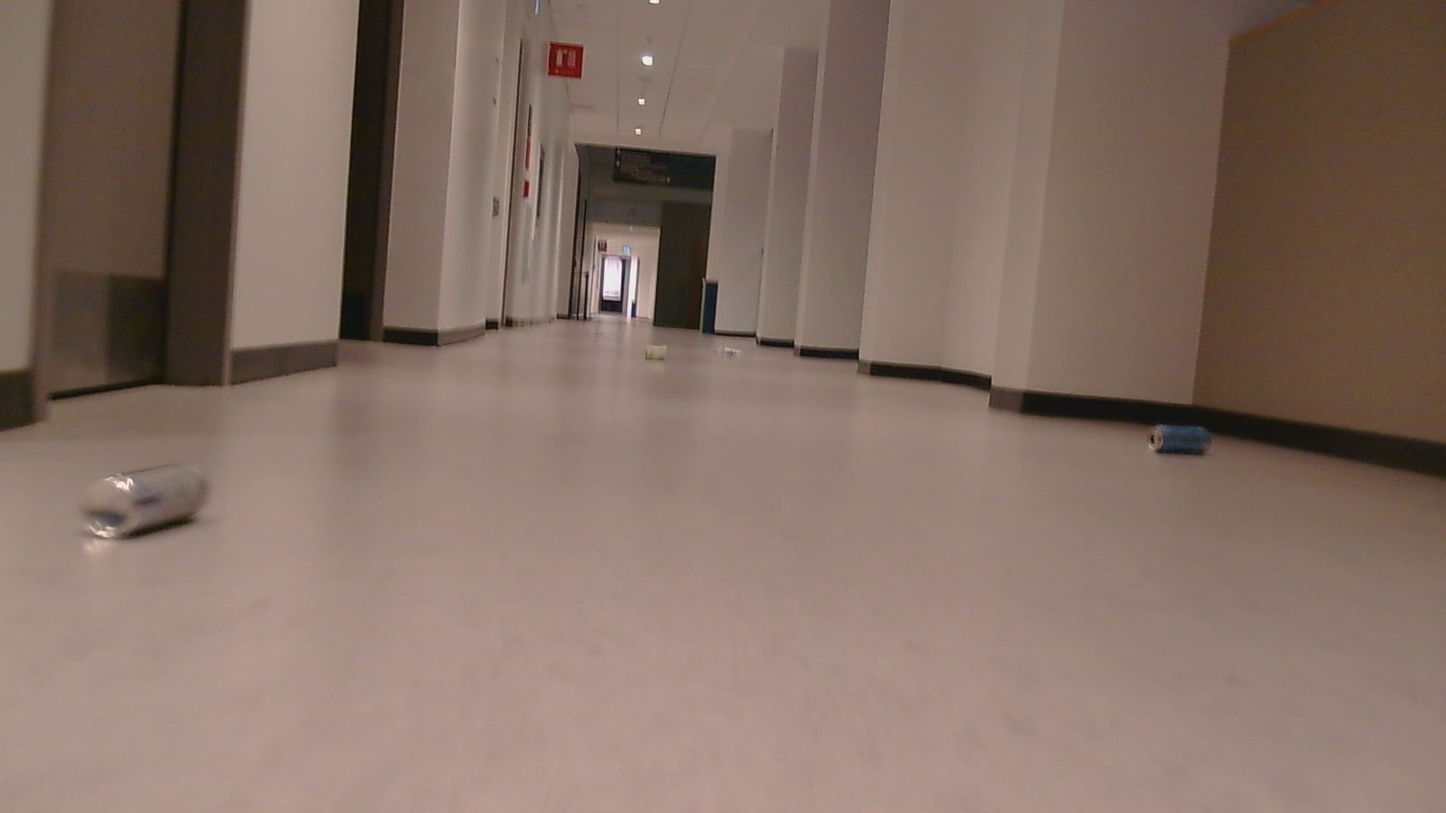carton: (56, 455, 225, 550), (1146, 419, 1226, 462), (637, 340, 680, 366), (715, 337, 753, 364)
